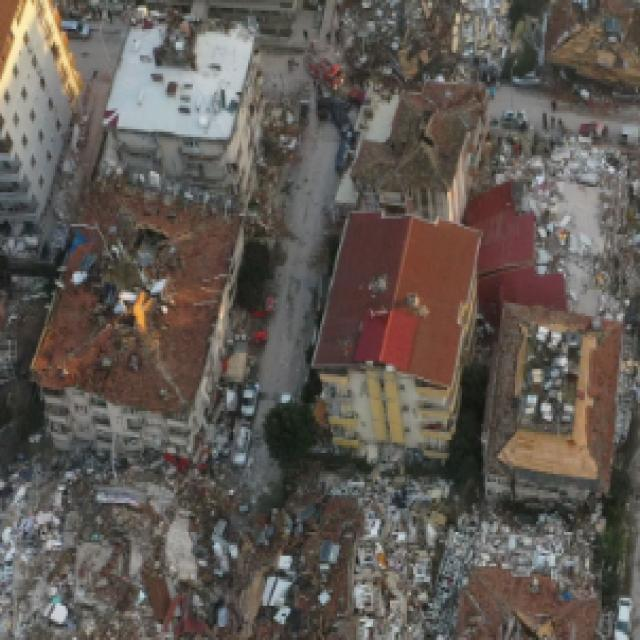Rubble: (5, 456, 227, 634), (282, 456, 436, 635), (445, 500, 621, 640), (342, 4, 514, 70), (526, 127, 622, 223)
